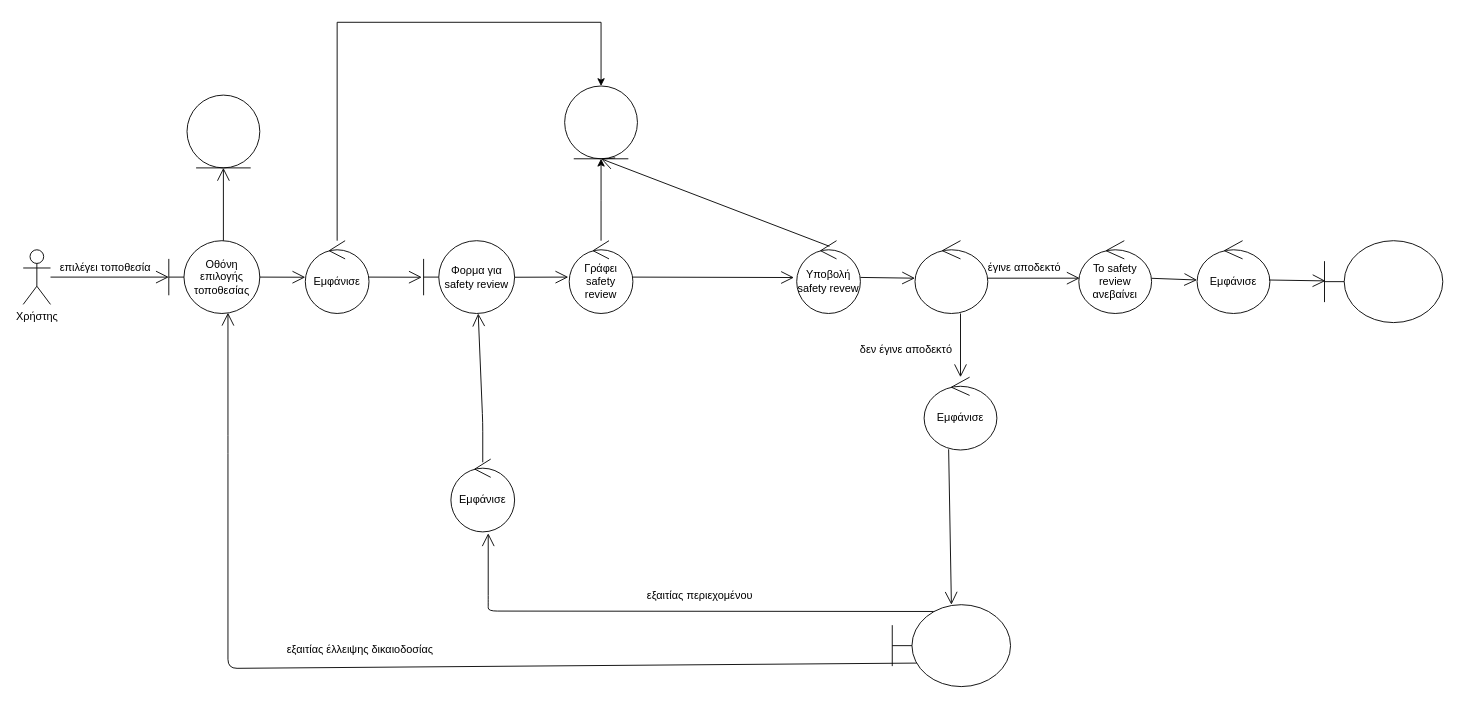
This 1459x703 diagram has some shape labels left out. The shapes that lost their labels are listed below. From the top down, each one's centre as x and y in pixels, then its label:
pixel 223 131: Τοποθεσία
pixel 600 122: Safety review
pixel 951 276: Έλεγχος safety revew
pixel 1383 281: Μήνυμα για την έγκριση
pixel 951 645: Μήνυμα που αναφέρει τους λόγους που δεν έγινε δεκτό το review
